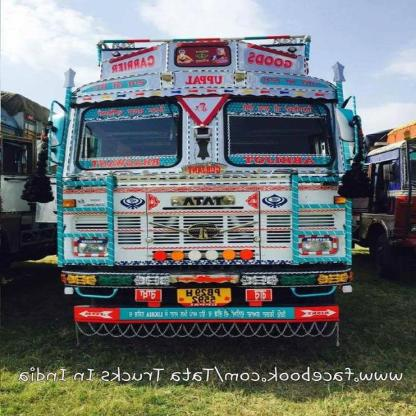truck: (46, 41, 372, 350)
